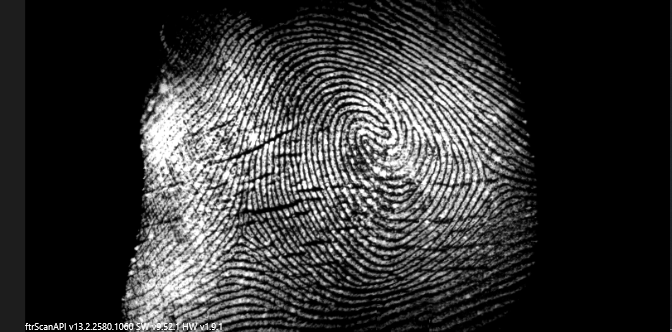deltas: (466, 149, 512, 198), (217, 214, 267, 254)
nucleo: (350, 100, 399, 149)
